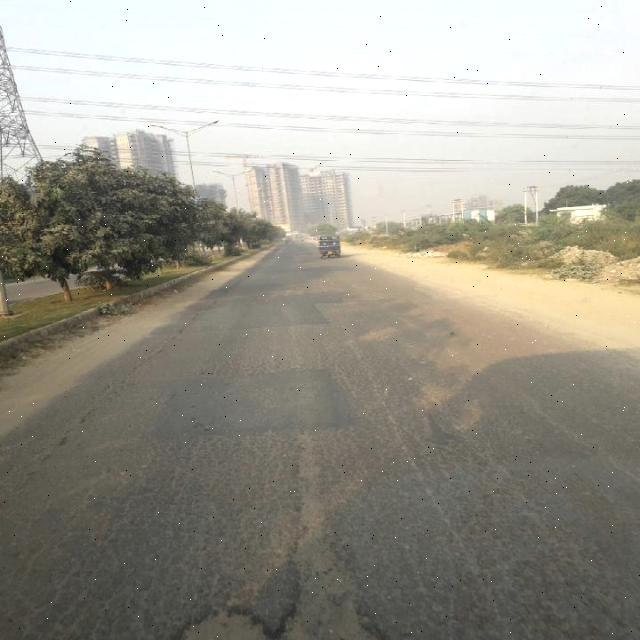D00: (353, 334, 507, 631)
D20: (1, 430, 634, 639), (205, 308, 344, 381)
D40: (159, 596, 303, 639)
